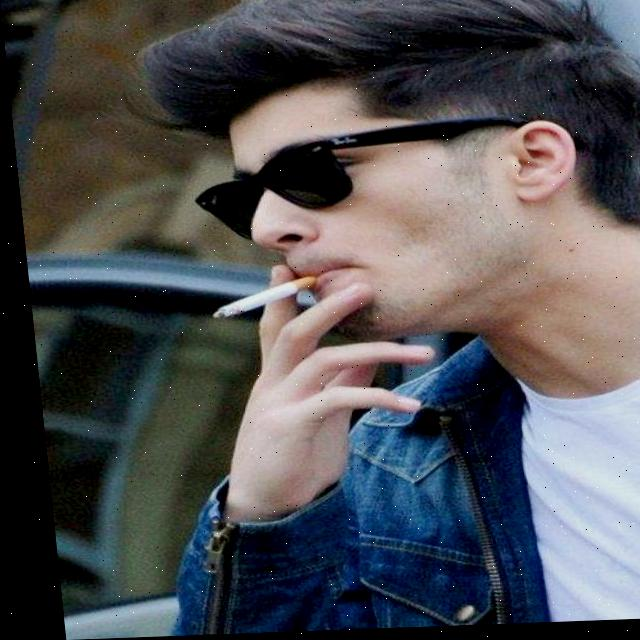cigarette: (204, 279, 312, 321)
